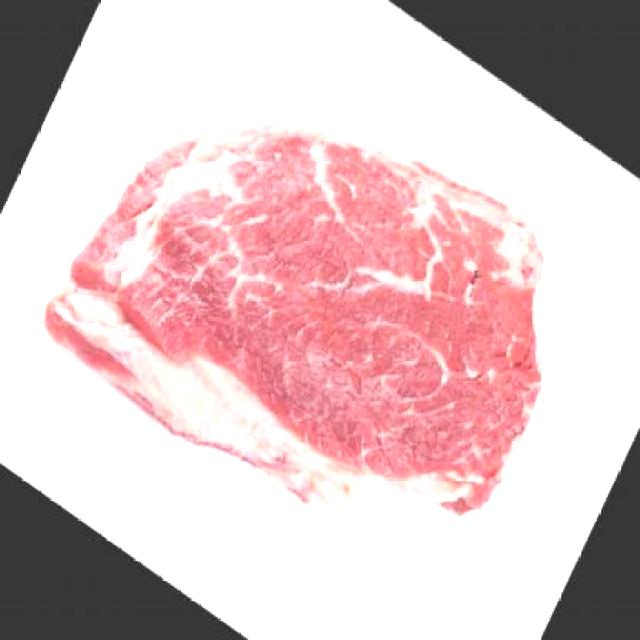beef: (48, 124, 547, 512)
